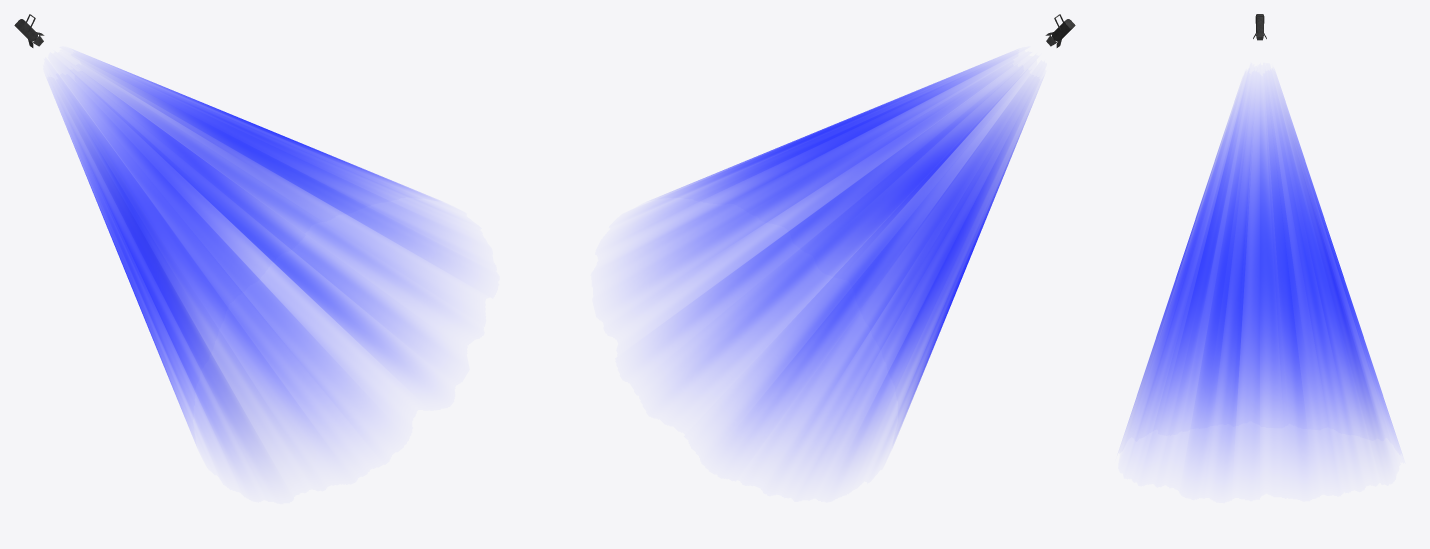
File: Stage_Light_Blue.glb
The picture shows the model from 3 angles, left to right: view 1: azimuth 30°, elevation 25°; view 2: azimuth 150°, elevation 25°; view 3: azimuth 270°, elevation 25°; orthographic projection. The views are drawn at different scales.
Parts seen in each view (by area): view 1: Cube.018; view 2: Cube.018; view 3: Cube.018.
Boxes of the visible parts, x1,y1,x2,y2 form: Cube.018: (14,14,455,460); Cube.018: (636,14,1075,459); Cube.018: (1126,14,1396,461).
Bounding box in the file's own units: 10.84 × 11.9 × 7.65.
Materials: 3 (2 with a texture image).
